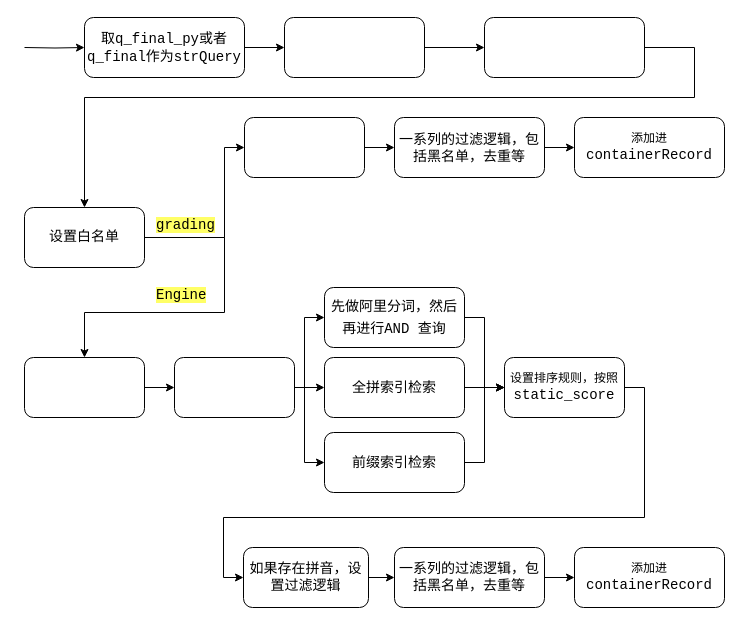
The diagram is 742 pixels wide and 625 high, and some of its shapes have lost their labels. The centre of each missing label's shape, as x and y in pixels:
以q_final为key查表: the point at 304,147
以q_final为key过用户自定义黑名单: the point at 354,47
先分词: the point at 234,387
分词并按词的长度从大到小排序: the point at 84,387
计算需要的输出个数 nOutputRemain: the point at 564,47
